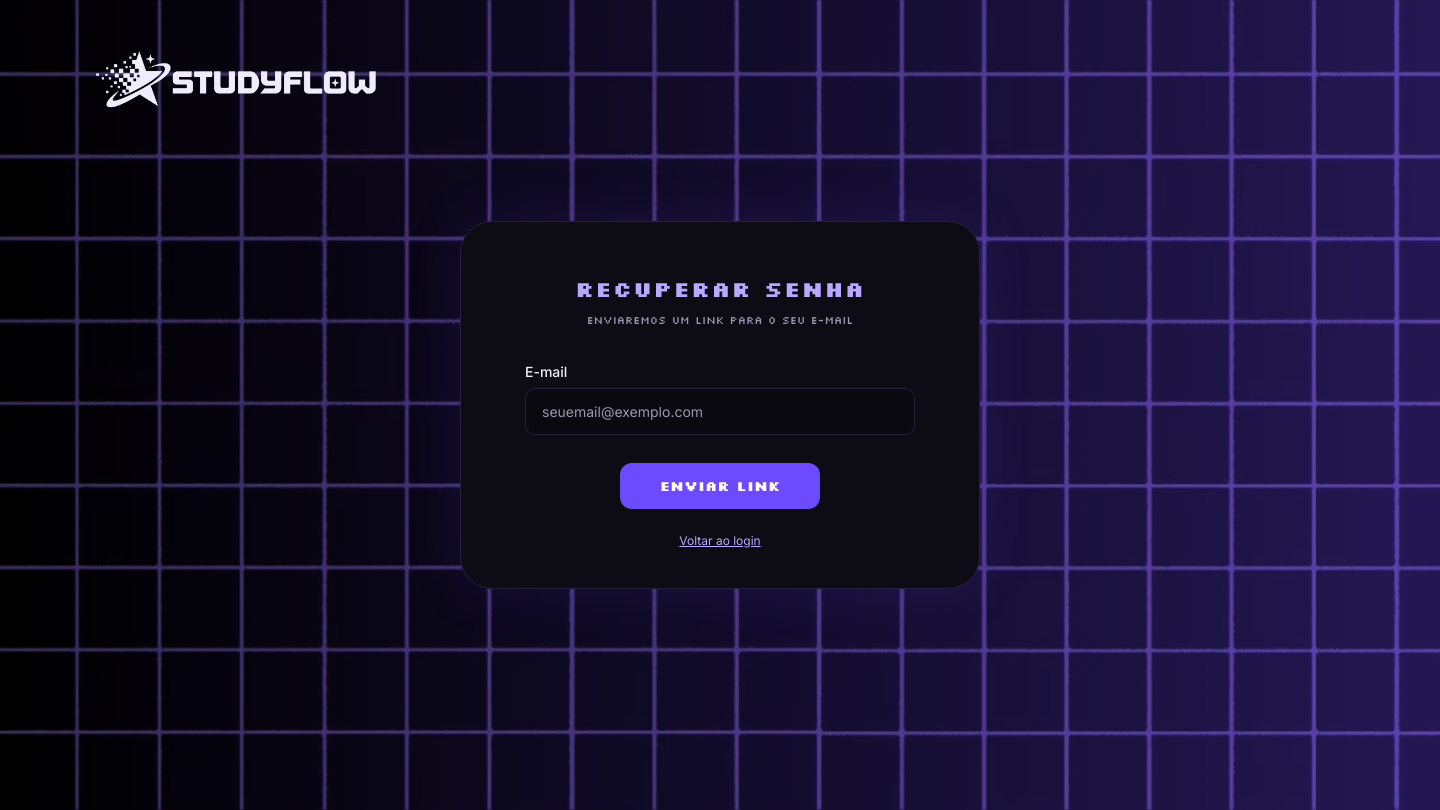
it: ForgotPasswordPage › valida e-mail sem enviar
Click the button "Enviar link". click: (720, 486)
box: [620,463,820,509]
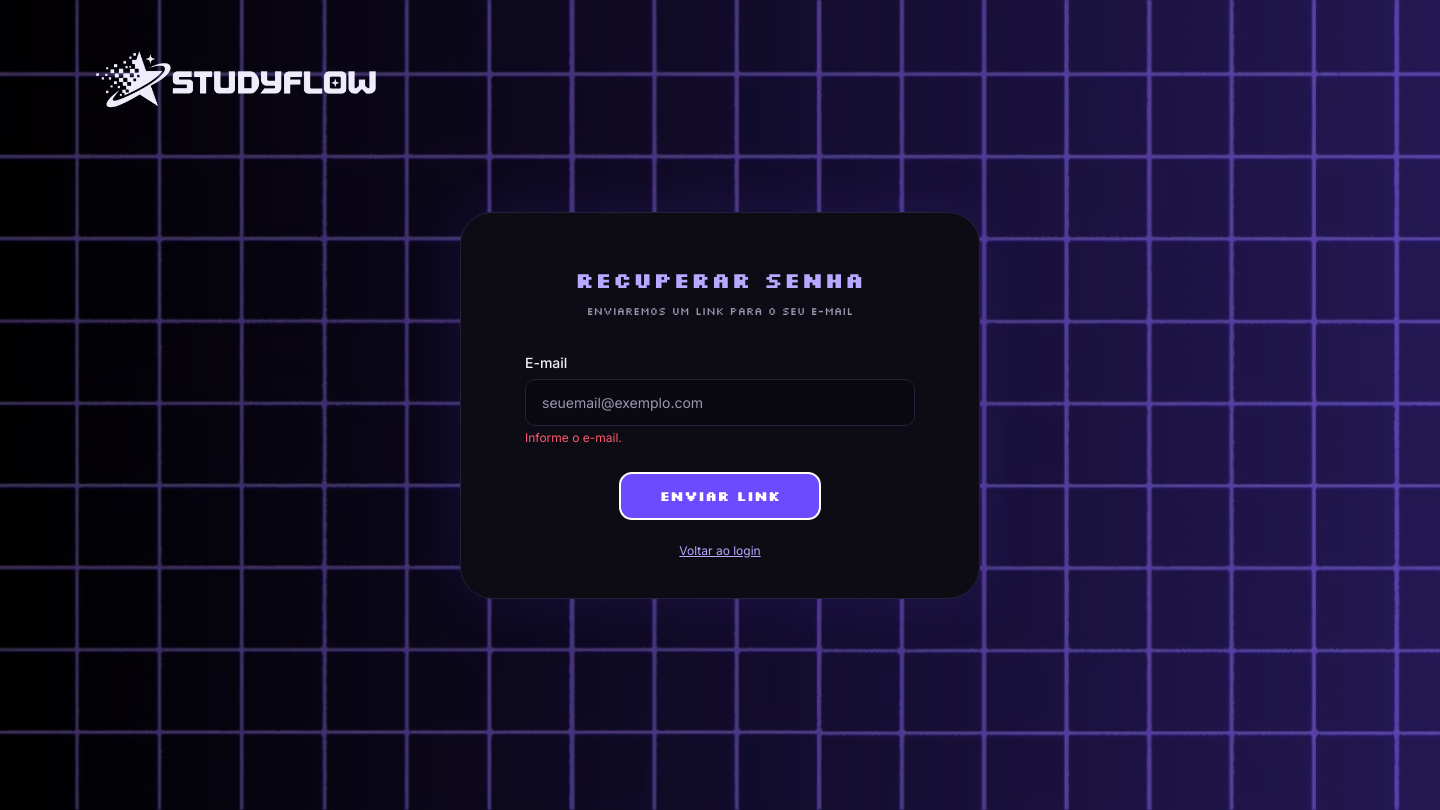
expect the text "Informe o e-mail." is shown: met, box [525,430,622,444]
